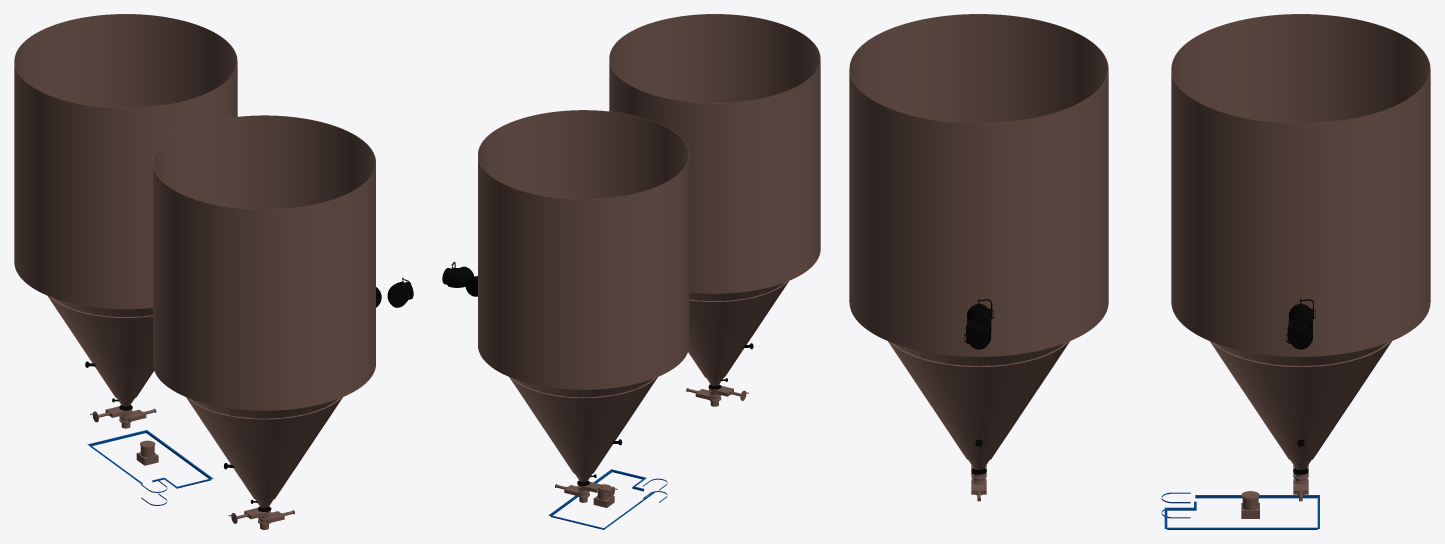
The model's file is GCC-AAV-13220-30.nwd(116).fbx.
3 renders of one model, left to right at view 1: azimuth 30°, elevation 25°; view 2: azimuth 150°, elevation 25°; view 3: azimuth 270°, elevation 25°, orthographic. The views are drawn at different scales.
Parts seen in each view (by area): view 1: CYLINDER 7 of EQUIPMENT /711-S-102C, CYLINDER 7 of EQUIPMENT /711-S-102D, CYLINDER 8 of EQUIPMENT /711-S-102C, CYLINDER 8 of EQUIPMENT /711-S-102D, CYLINDER 9 of EQUIPMENT /711-S-102C, CYLINDER 10 of EQUIPMENT /711-S-102C, CYLINDER 10 of EQUIPMENT /711-S-102D, CYLINDER 9 of EQUIPMENT /711-S-102D, CONE 2 of EQUIPMENT /711-S-102C, CONE 2 of EQUIPMENT /711-S-102D, CONE 1 of EQUIPMENT /711-S-102C, CONE 1 of EQUIPMENT /711-S-102D (+2 smaller); view 2: CYLINDER 7 of EQUIPMENT /711-S-102D, CYLINDER 7 of EQUIPMENT /711-S-102C, CYLINDER 8 of EQUIPMENT /711-S-102D, CYLINDER 8 of EQUIPMENT /711-S-102C, CYLINDER 9 of EQUIPMENT /711-S-102D, CYLINDER 10 of EQUIPMENT /711-S-102D, CYLINDER 9 of EQUIPMENT /711-S-102C, CYLINDER 10 of EQUIPMENT /711-S-102C, CONE 2 of EQUIPMENT /711-S-102D, CONE 2 of EQUIPMENT /711-S-102C, CONE 1 of EQUIPMENT /711-S-102D, CONE 1 of EQUIPMENT /711-S-102C (+2 smaller); view 3: CYLINDER 7 of EQUIPMENT /711-S-102C, CYLINDER 7 of EQUIPMENT /711-S-102D, CYLINDER 8 of EQUIPMENT /711-S-102C, CYLINDER 8 of EQUIPMENT /711-S-102D, CYLINDER 9 of EQUIPMENT /711-S-102C, CYLINDER 9 of EQUIPMENT /711-S-102D, CYLINDER 10 of EQUIPMENT /711-S-102C, CYLINDER 10 of EQUIPMENT /711-S-102D, CONE 2 of EQUIPMENT /711-S-102C, CONE 2 of EQUIPMENT /711-S-102D, CONE 1 of EQUIPMENT /711-S-102C, CONE 1 of EQUIPMENT /711-S-102D (+1 smaller).
Part boxes in pixels (<box>): CYLINDER 7 of EQUIPMENT /711-S-102C: <box>153,115,375,259</box>; CYLINDER 7 of EQUIPMENT /711-S-102D: <box>14,14,237,158</box>; CYLINDER 8 of EQUIPMENT /711-S-102C: <box>153,166,375,310</box>; CYLINDER 8 of EQUIPMENT /711-S-102D: <box>14,64,237,208</box>; CYLINDER 9 of EQUIPMENT /711-S-102C: <box>153,266,375,360</box>; CYLINDER 10 of EQUIPMENT /711-S-102C: <box>153,316,375,410</box>; CYLINDER 10 of EQUIPMENT /711-S-102D: <box>14,214,152,309</box>; CYLINDER 9 of EQUIPMENT /711-S-102D: <box>14,164,152,258</box>; CONE 2 of EQUIPMENT /711-S-102C: <box>186,397,342,501</box>; CONE 2 of EQUIPMENT /711-S-102D: <box>47,295,154,399</box>; CONE 1 of EQUIPMENT /711-S-102C: <box>191,399,337,508</box>; CONE 1 of EQUIPMENT /711-S-102D: <box>53,298,152,406</box>; CYLINDER 7 of EQUIPMENT /711-S-102D: <box>478,110,689,246</box>; CYLINDER 7 of EQUIPMENT /711-S-102C: <box>609,14,820,150</box>; CYLINDER 8 of EQUIPMENT /711-S-102D: <box>478,158,689,294</box>; CYLINDER 8 of EQUIPMENT /711-S-102C: <box>609,61,820,198</box>; CYLINDER 9 of EQUIPMENT /711-S-102D: <box>478,252,689,342</box>; CYLINDER 10 of EQUIPMENT /711-S-102D: <box>478,300,689,389</box>; CYLINDER 9 of EQUIPMENT /711-S-102C: <box>689,156,820,245</box>; CYLINDER 10 of EQUIPMENT /711-S-102C: <box>689,204,820,293</box>; CONE 2 of EQUIPMENT /711-S-102D: <box>509,377,657,475</box>; CONE 2 of EQUIPMENT /711-S-102C: <box>688,281,788,379</box>; CONE 1 of EQUIPMENT /711-S-102D: <box>514,379,652,482</box>; CONE 1 of EQUIPMENT /711-S-102C: <box>689,283,783,385</box>; CYLINDER 7 of EQUIPMENT /711-S-102C: <box>849,14,1108,181</box>; CYLINDER 7 of EQUIPMENT /711-S-102D: <box>1171,14,1430,181</box>; CYLINDER 8 of EQUIPMENT /711-S-102C: <box>849,72,1108,240</box>; CYLINDER 8 of EQUIPMENT /711-S-102D: <box>1171,72,1430,240</box>; CYLINDER 9 of EQUIPMENT /711-S-102C: <box>849,186,1108,298</box>; CYLINDER 9 of EQUIPMENT /711-S-102D: <box>1171,186,1430,298</box>; CYLINDER 10 of EQUIPMENT /711-S-102C: <box>849,245,1108,356</box>; CYLINDER 10 of EQUIPMENT /711-S-102D: <box>1171,245,1430,356</box>; CONE 2 of EQUIPMENT /711-S-102C: <box>888,341,1069,462</box>; CONE 2 of EQUIPMENT /711-S-102D: <box>1210,341,1391,462</box>; CONE 1 of EQUIPMENT /711-S-102C: <box>894,343,1063,469</box>; CONE 1 of EQUIPMENT /711-S-102D: <box>1216,343,1385,469</box>.
Bounding box in the file's own units: 396 × 618 × 711.
